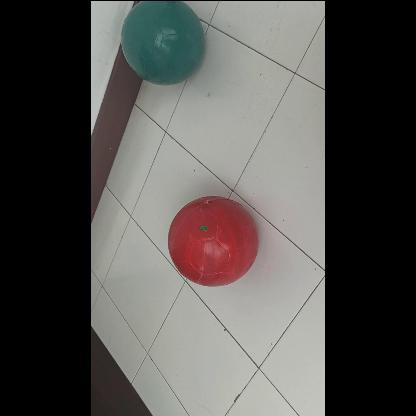red_ball: (169, 197, 258, 286)
